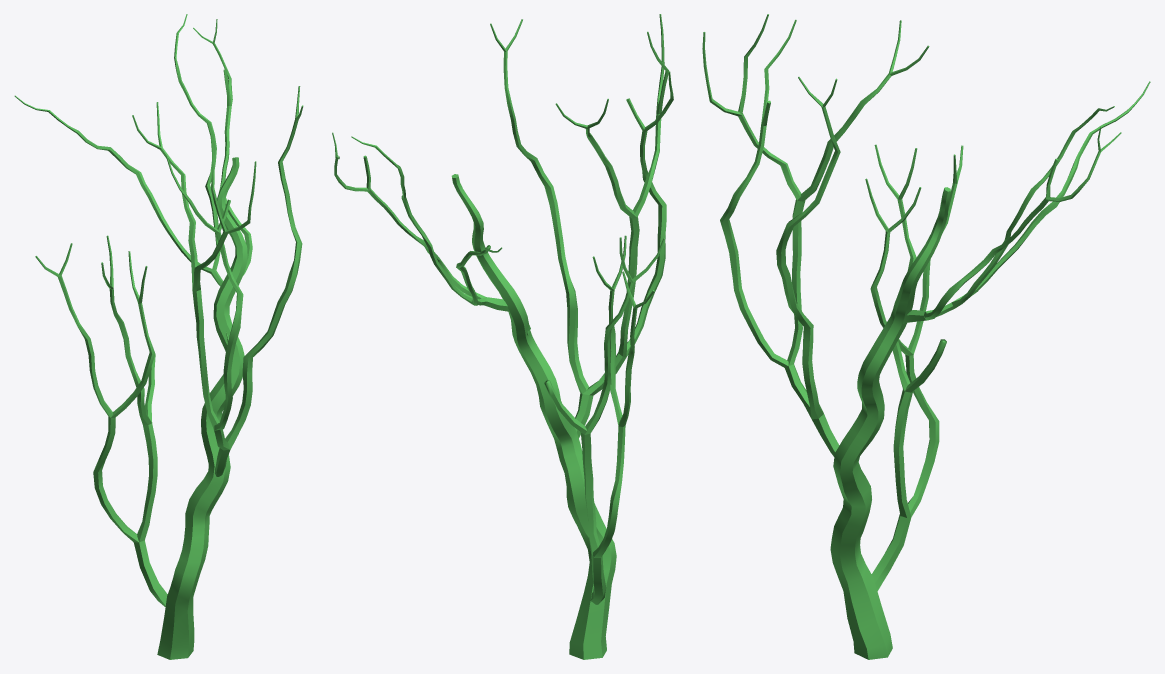
Rendered from jungle_wiggle_tree_B_curved.fbx.
The picture shows the model from 3 angles, left to right: view 1: azimuth 30°, elevation 25°; view 2: azimuth 150°, elevation 25°; view 3: azimuth 270°, elevation 25°; orthographic projection. The views are drawn at different scales.
Parts seen in each view (by area): view 1: jungle_wiggle_tree_B_curved_trunk, jungle_wiggle_tree_B_curved_branch_B, jungle_wiggle_tree_B_curved_branch_C, jungle_wiggle_tree_B_curved_branch_A; view 2: jungle_wiggle_tree_B_curved_trunk, jungle_wiggle_tree_B_curved_branch_B, jungle_wiggle_tree_B_curved_branch_C, jungle_wiggle_tree_B_curved_branch_A; view 3: jungle_wiggle_tree_B_curved_trunk, jungle_wiggle_tree_B_curved_branch_B, jungle_wiggle_tree_B_curved_branch_C, jungle_wiggle_tree_B_curved_branch_A.
Part boxes in pixels (left/top/right/bottom): jungle_wiggle_tree_B_curved_trunk: left=157, top=157, right=247, bottom=659; jungle_wiggle_tree_B_curved_branch_B: left=132, top=86, right=303, bottom=476; jungle_wiggle_tree_B_curved_branch_C: left=35, top=235, right=167, bottom=606; jungle_wiggle_tree_B_curved_branch_A: left=14, top=14, right=252, bottom=350; jungle_wiggle_tree_B_curved_trunk: left=451, top=174, right=616, bottom=659; jungle_wiggle_tree_B_curved_branch_B: left=490, top=14, right=673, bottom=437; jungle_wiggle_tree_B_curved_branch_C: left=544, top=235, right=664, bottom=604; jungle_wiggle_tree_B_curved_branch_A: left=332, top=132, right=530, bottom=335; jungle_wiggle_tree_B_curved_trunk: left=830, top=187, right=950, bottom=659; jungle_wiggle_tree_B_curved_branch_B: left=702, top=14, right=929, bottom=456; jungle_wiggle_tree_B_curved_branch_C: left=865, top=144, right=963, bottom=591; jungle_wiggle_tree_B_curved_branch_A: left=903, top=81, right=1150, bottom=323.
Size of the model in its own units: 441 by 944 by 607.
